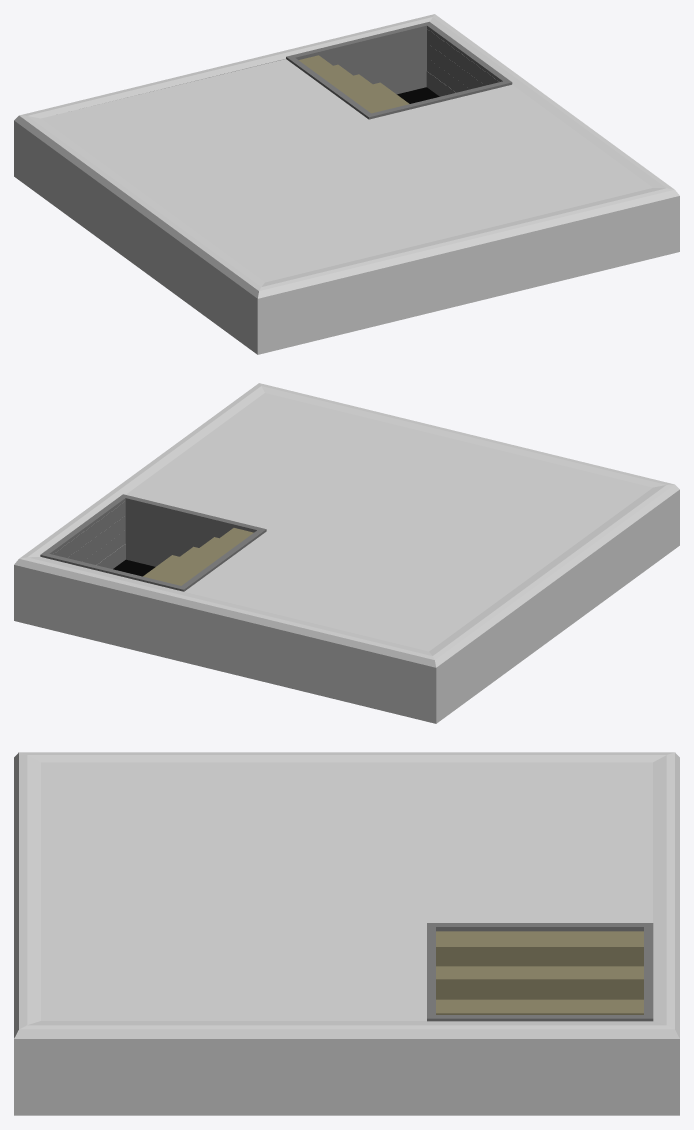
Rendered from Fliese_start.fbx.
3 renders of one model, top to bottom at view 1: azimuth 30°, elevation 25°; view 2: azimuth 150°, elevation 25°; view 3: azimuth 270°, elevation 25°, orthographic. The views are drawn at different scales.
Parts seen in each view (by area): view 1: Fliese; view 2: Fliese; view 3: Fliese.
Boxes of the visible parts, x1,y1,x2,y2 form: Fliese: (14, 14, 679, 354); Fliese: (14, 383, 679, 723); Fliese: (14, 752, 679, 1115).
Bounding box in the file's own units: 200 × 28.51 × 200.
